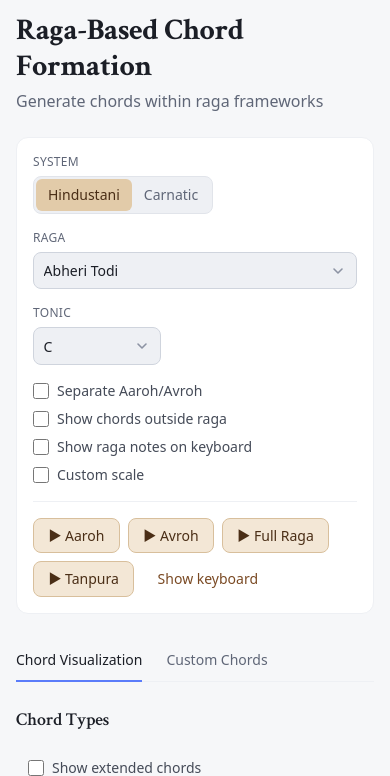
Test: ChordTool progression templates › 12-bar blues raises Beats to 12
Select "Kafi" in the dropdown labelled "Raga": (195, 271) x1=33 y1=252 x2=357 y2=289
(page scrolled)
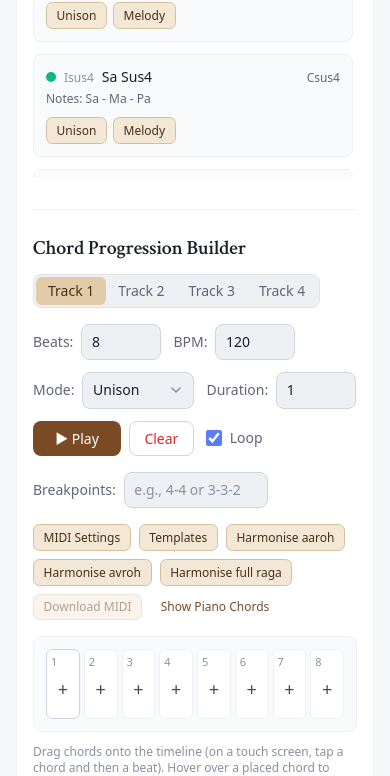
Click the button "Templates": (178, 538) x1=139 y1=524 x2=218 y2=551
(page scrolled)
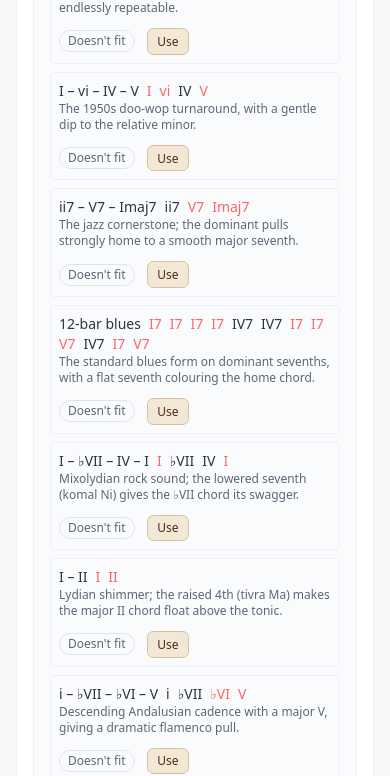
Click the button "Use" below "12-bar blues": (168, 411) x1=146 y1=398 x2=189 y2=424
(page scrolled)
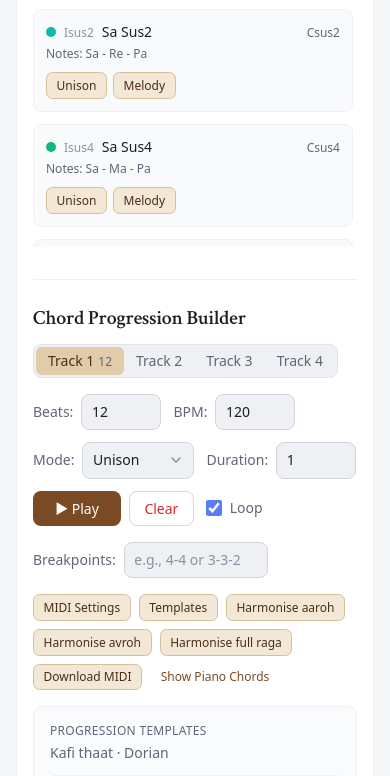
Expected: the number field labelled "Beats:" holds "12", x1=81 y1=394 x2=161 y2=430
